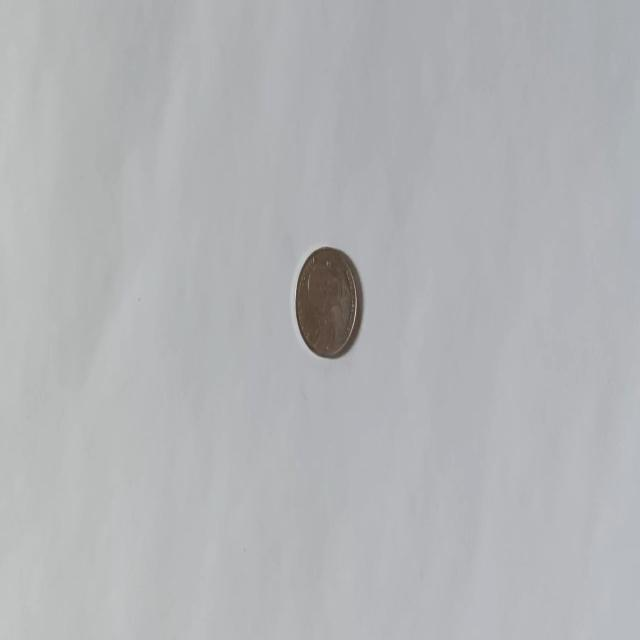seribu rupiah koin: (294, 244, 358, 360)
